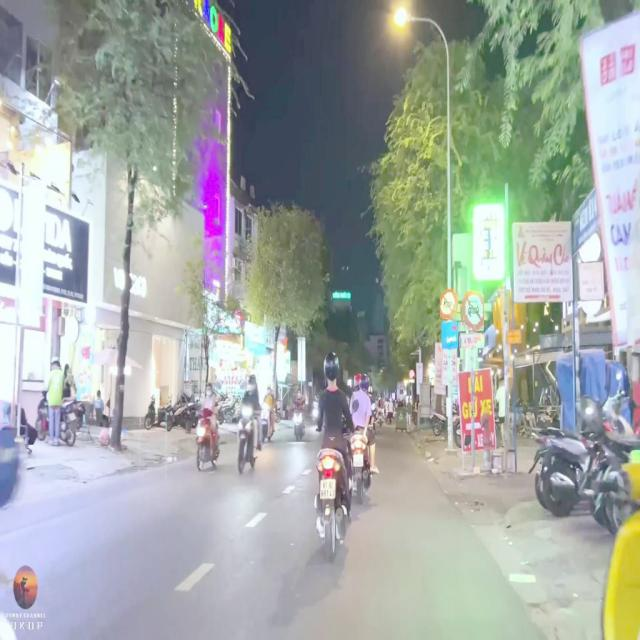cam_o_to: (460, 291, 484, 331), (409, 370, 415, 378)
cam_su_dung_coi: (440, 289, 458, 320)
khac: (442, 322, 458, 348), (459, 332, 484, 348), (409, 379, 415, 383)
